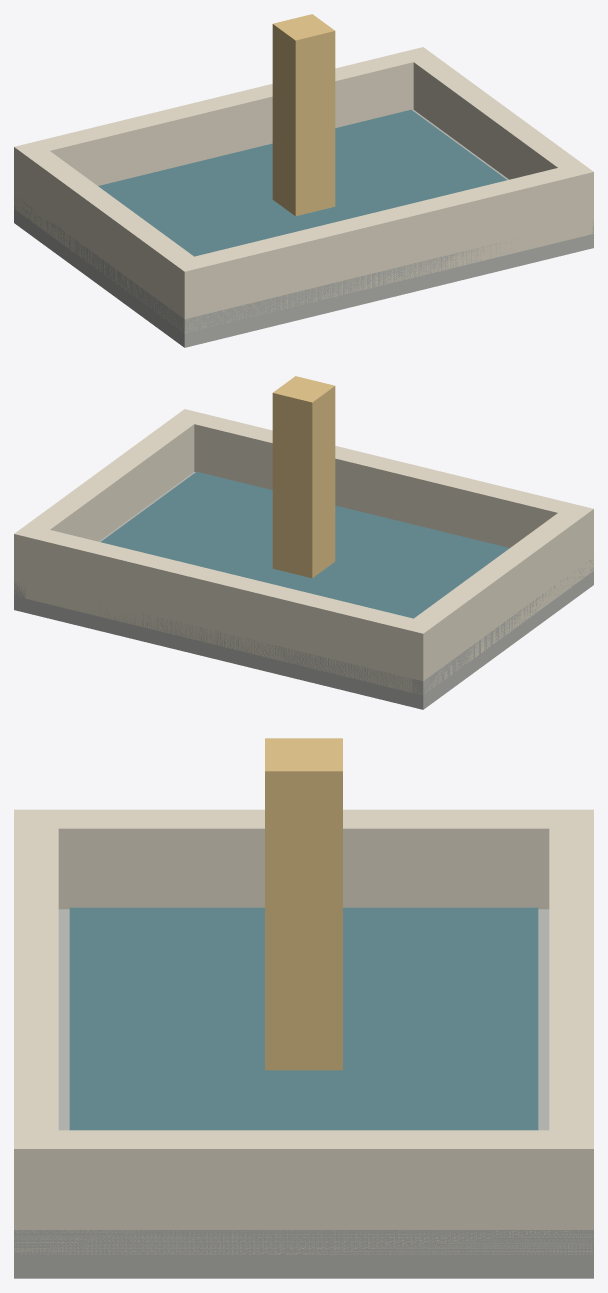
Rendered from q03-fountain.glb.
3 renders of one model, top to bottom at view 1: azimuth 30°, elevation 25°; view 2: azimuth 150°, elevation 25°; view 3: azimuth 270°, elevation 25°, orthographic. The views are drawn at different scales.
Bounding box in the file's own units: 3.6 × 1.75 × 2.6.
